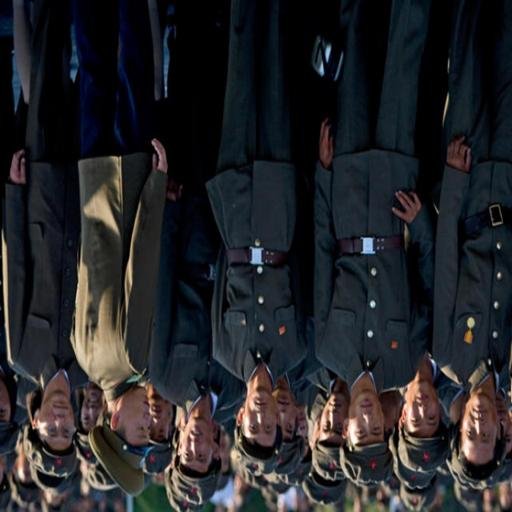north army: (311, 4, 429, 487), (210, 0, 309, 464), (74, 0, 164, 496), (153, 0, 235, 506), (0, 0, 83, 487), (436, 0, 512, 491)
